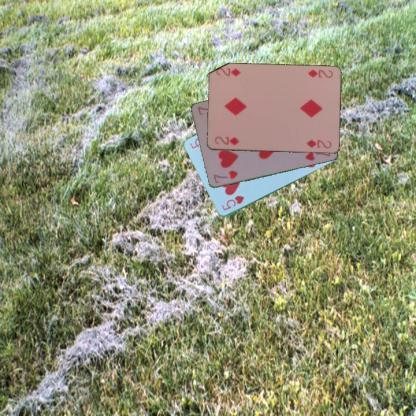2d: (211, 134, 240, 146), (305, 67, 334, 79)
5h: (219, 193, 246, 212)
7h: (210, 168, 240, 184)
